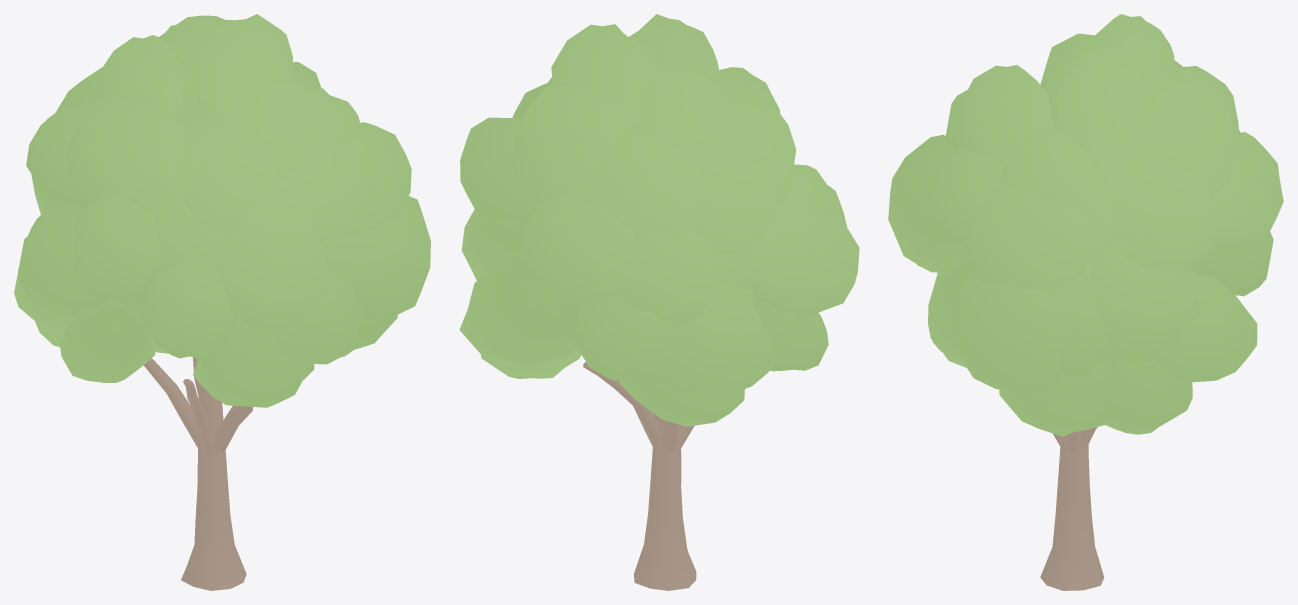
Rendered from Blender_Maple_1.glb.
3 views of the same model, side by side, from view 1: azimuth 30°, elevation 25°; view 2: azimuth 150°, elevation 25°; view 3: azimuth 270°, elevation 25° (orthographic). The views are drawn at different scales.
Visible parts, largest first — view 1: Blender_Maple_1; view 2: Blender_Maple_1; view 3: Blender_Maple_1.
Boxes of the visible parts, box(x1,y1,x2,y2) form: Blender_Maple_1: box(14, 14, 430, 590); Blender_Maple_1: box(459, 14, 859, 590); Blender_Maple_1: box(888, 14, 1283, 590).
Size of the model in its own units: 15.31 by 20.92 by 13.77.
